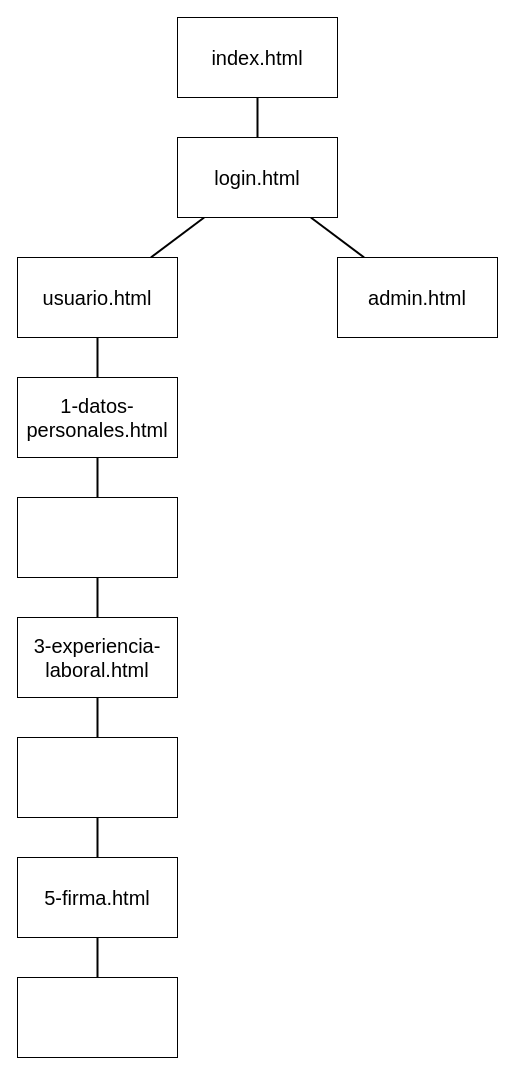
Image size: 515x1075. Some labels were removed from this diagram. The shapes that lost their labels are listed below. From the top down, each one's centre as x and y in pixels, then its label:
the point at 97,537: 2-formacion-academica.html
the point at 97,777: 4-tiempo-total.html
the point at 97,1017: 6-observaciones .html
